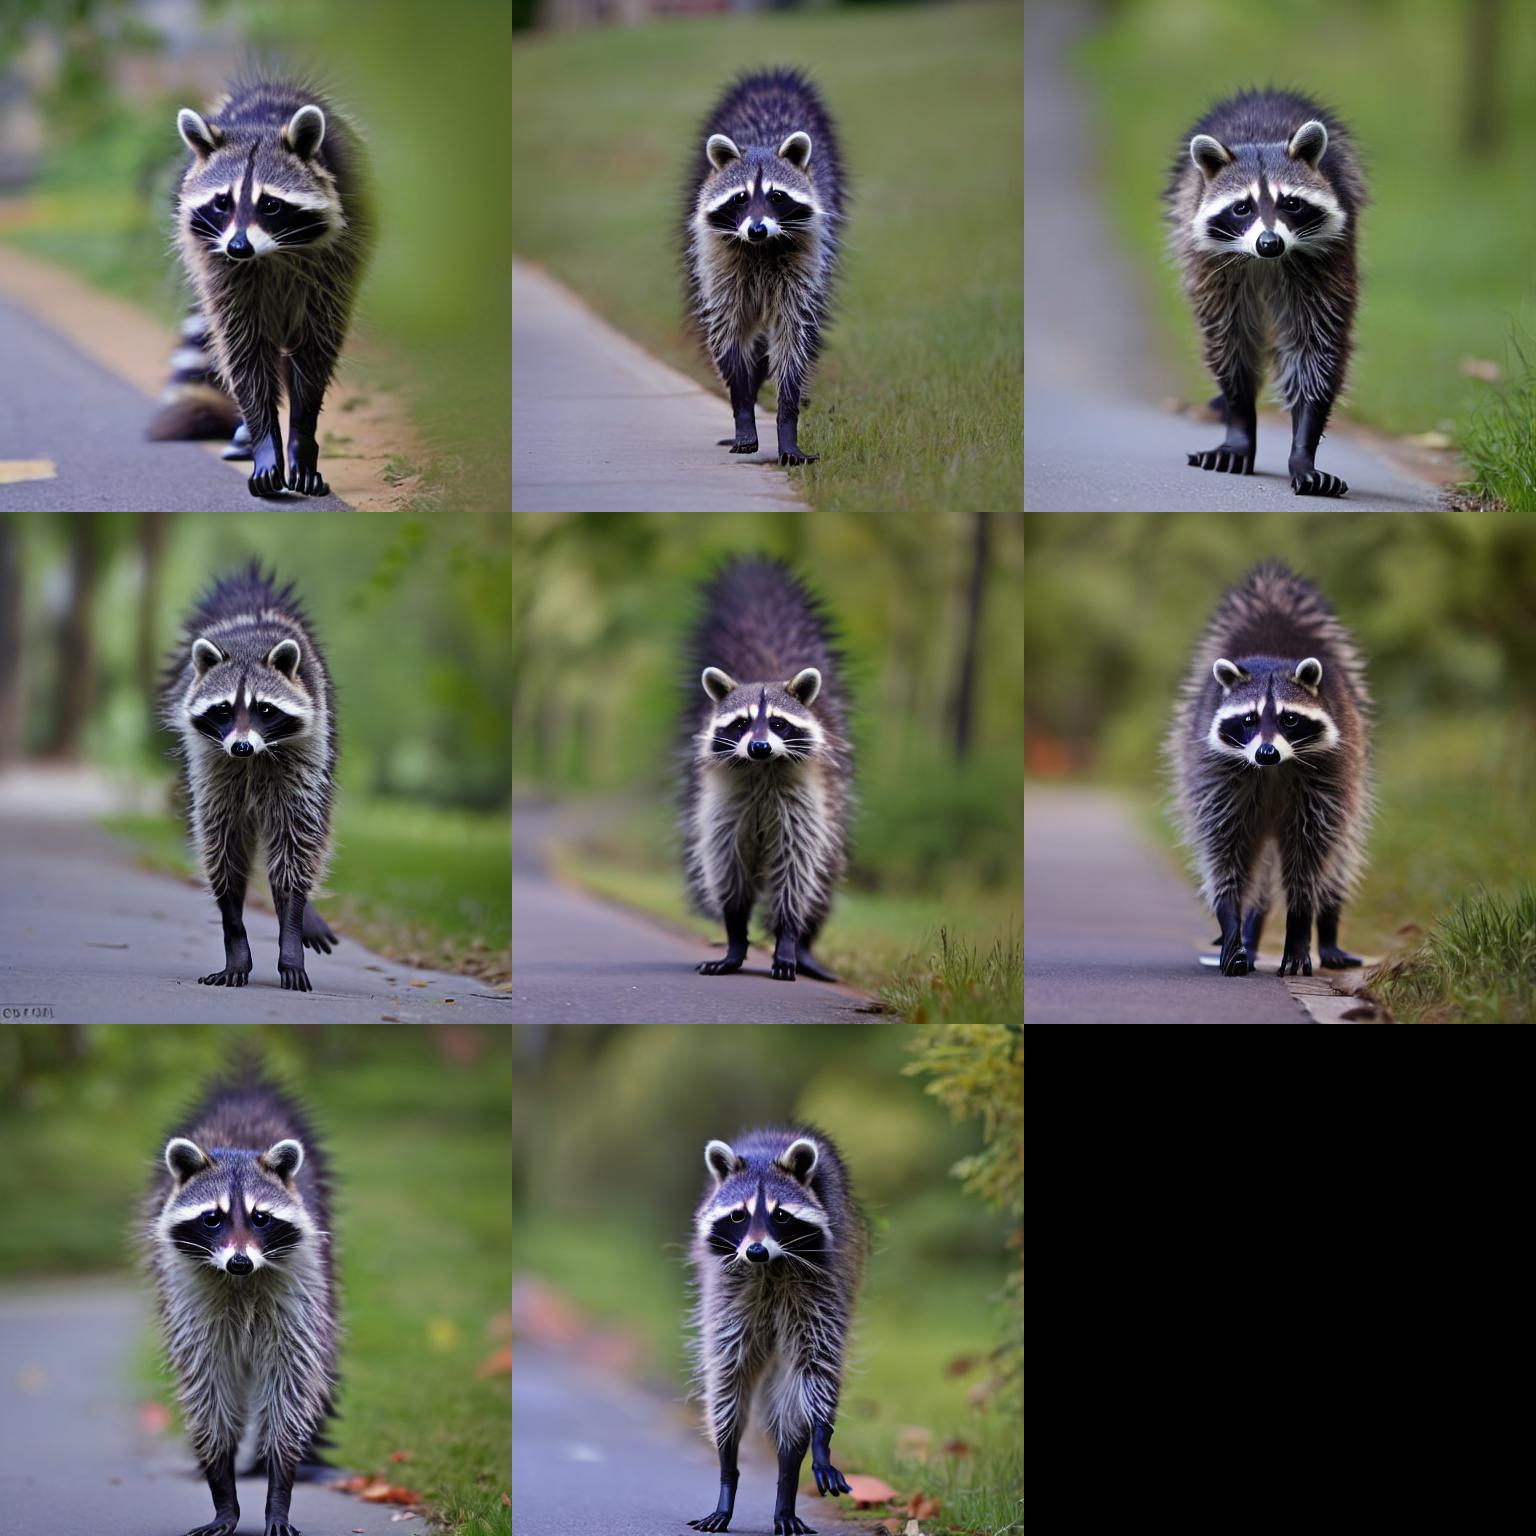raccoon: (146, 66, 392, 428), (1155, 556, 1390, 886), (138, 1082, 345, 1438), (1148, 80, 1376, 392), (672, 1113, 879, 1438), (156, 561, 342, 889), (664, 68, 843, 380), (674, 627, 852, 909)
